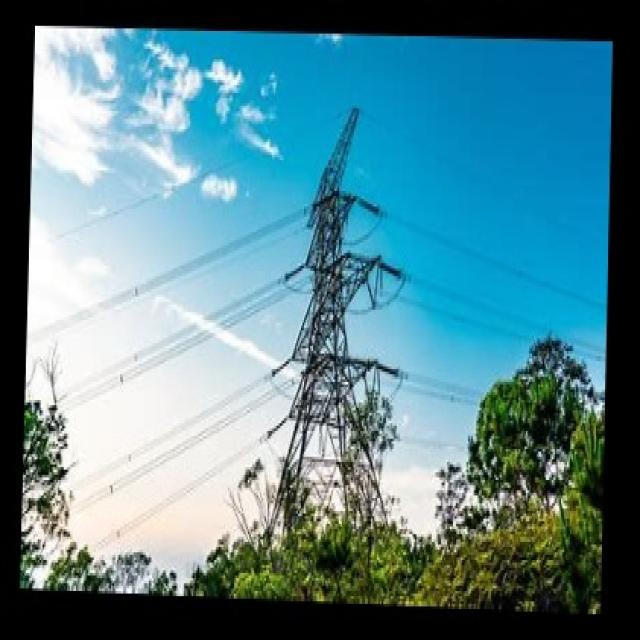utility poles: (447, 283, 585, 484), (319, 329, 411, 519)
